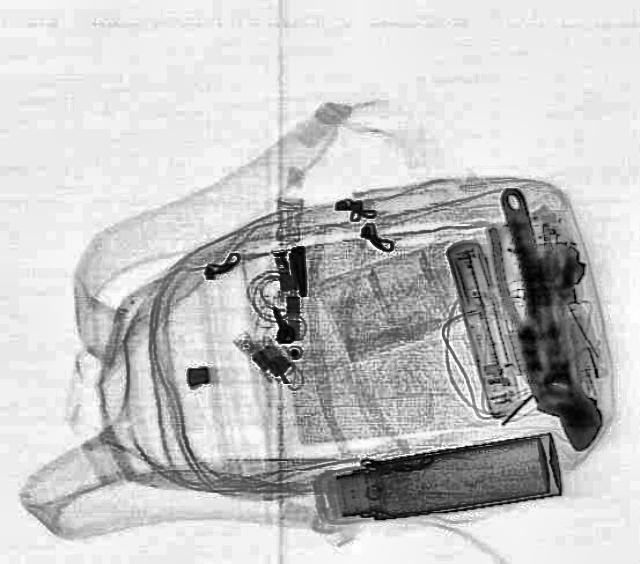Wrench: (481, 184, 607, 456)
